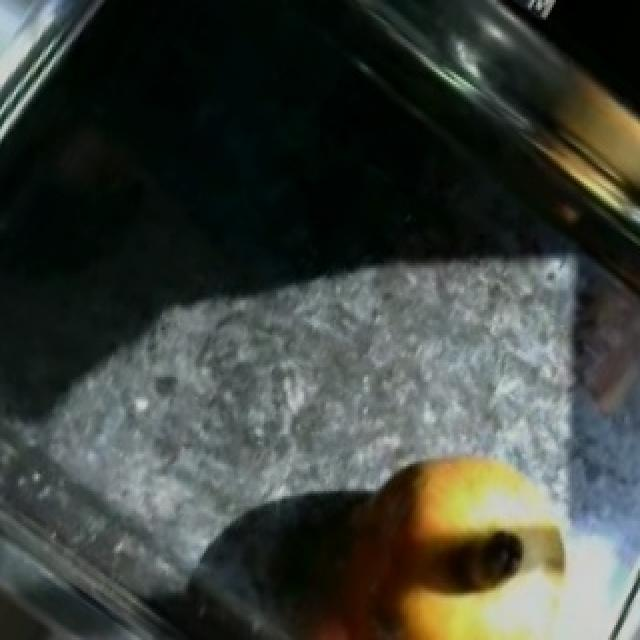fruit: (324, 422, 598, 638)
